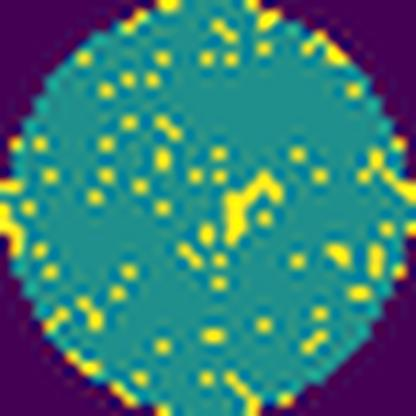Center: (218, 166, 289, 249)
